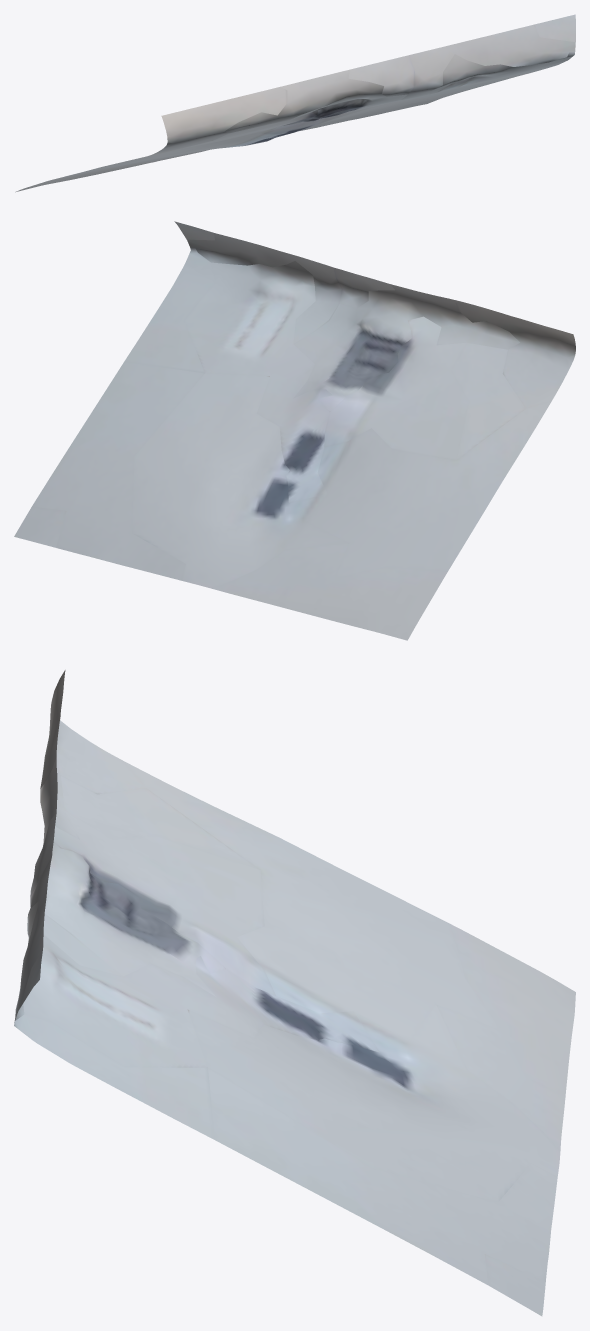
The model's file is 벽면에어컨.fbx.
3 renders of one model, top to bottom at view 1: azimuth 30°, elevation 25°; view 2: azimuth 150°, elevation 25°; view 3: azimuth 270°, elevation 25°, orthographic. The views are drawn at different scales.
Parts seen in each view (by area): view 1: Untitled; view 2: Untitled; view 3: Untitled.
Part boxes in pixels (<box>): Untitled: <box>15,14,575,192</box>; Untitled: <box>14,221,575,640</box>; Untitled: <box>14,670,575,1316</box>.
Bounding box in the file's own units: 38.09 × 17.98 × 27.57.
Materials: 1 (1 with a texture image).
